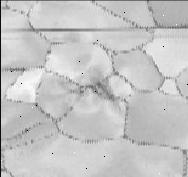good_void: (87, 78, 118, 101)
